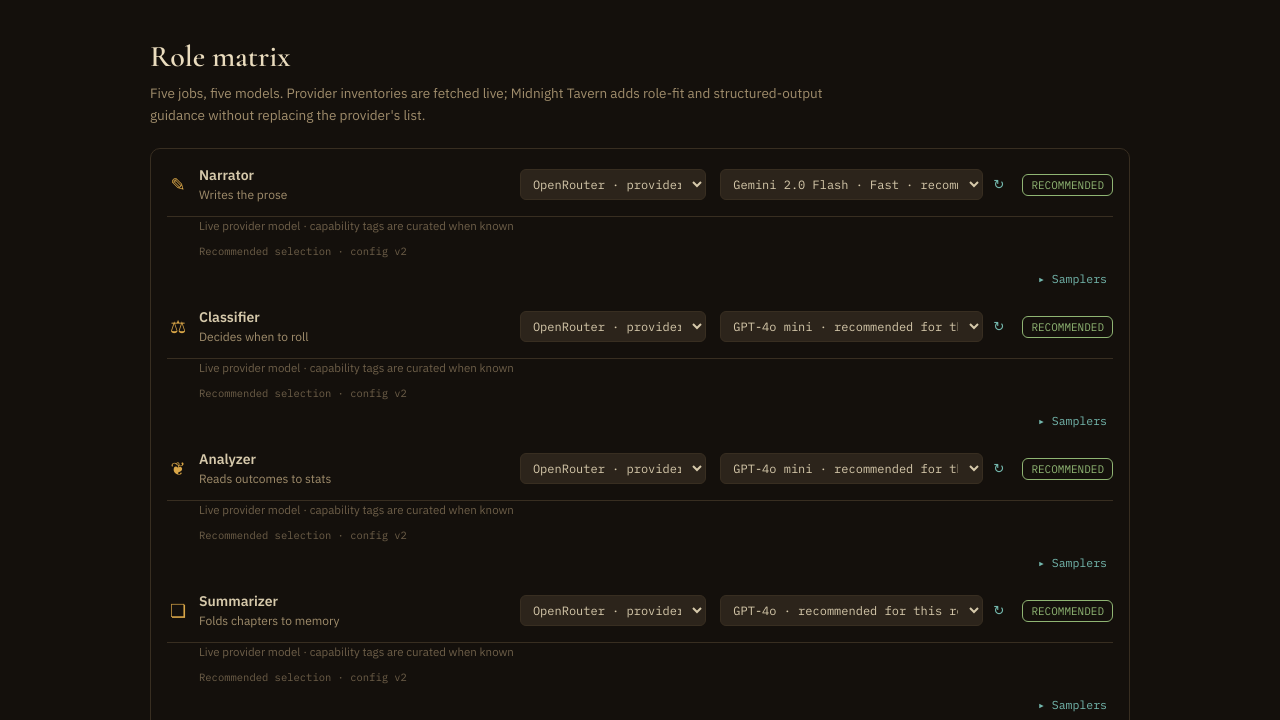
Test: RoleMatrix › shows config-versioned recommended parameters instead of screen-local defaults
Click the 1st button "▸ Samplers" at (1072, 279), box [1032, 270, 1113, 287]
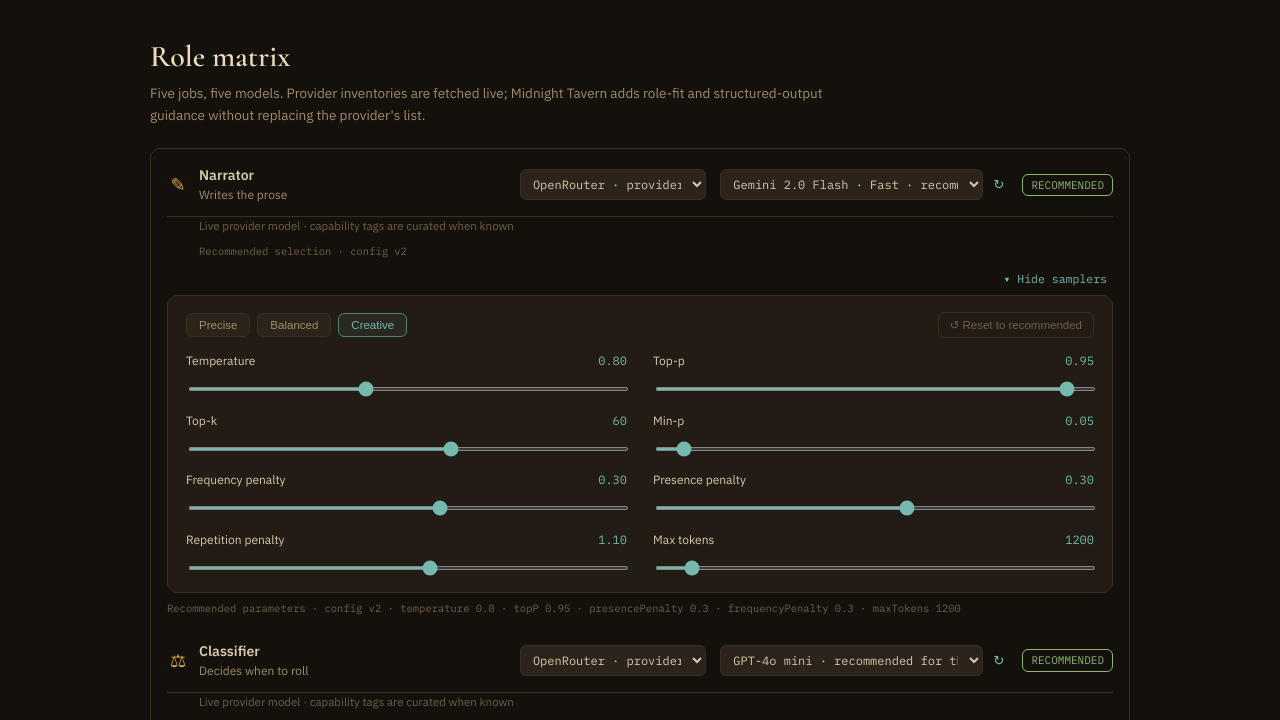
Result: the text "Recommended parameters · config v2" shows "temperature 0.8" at [400, 601, 961, 615]
Result: the text "Recommended parameters · config v2" shows "maxTokens 1200" at [400, 601, 961, 615]
